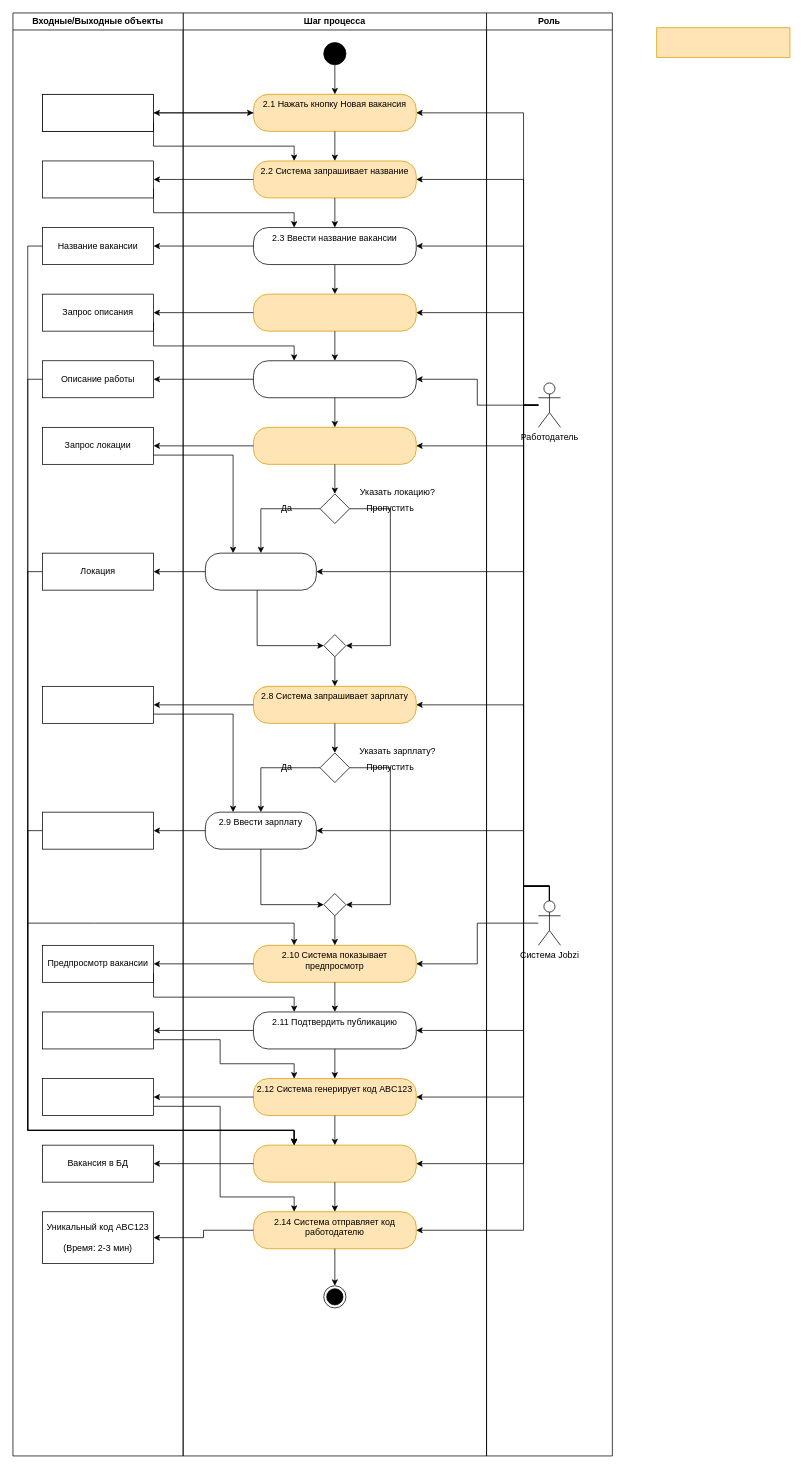
This 803x1469 diagram has some shape labels left out. Each missing label, with the centre of its shape:
"2.13 Система сохраняет вакансию в БД" belongs at pixel 334 1163.
"2.4 Система запрашивает описание" belongs at pixel 334 312.
"2.5 Ввести описание работы" belongs at pixel 334 379.
"2.6 Система запрашивает локацию" belongs at pixel 334 445.
"2.7 Ввести локацию" belongs at pixel 260 571.
"Автоматизированный шаг" belongs at pixel 723 42.
"Запрос зарплаты" belongs at pixel 98 704.
"Запрос названия" belongs at pixel 98 179.
"Зарплата" belongs at pixel 98 830.
"Открыт интерфейс создания вакансии" belongs at pixel 98 112.
"Подтверждение публикации" belongs at pixel 98 1030.
"Уникальный код ABC123" belongs at pixel 98 1097.
